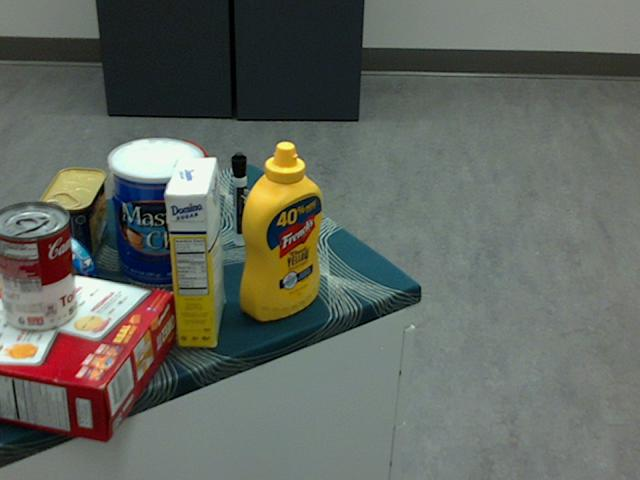cracker_box: (0, 260, 175, 442)
large_marker: (231, 152, 248, 245)
master_chef_can: (106, 137, 204, 288)
mug: (122, 140, 212, 221)
mustard_bottle: (239, 140, 323, 320)
potted_meat_can: (39, 166, 107, 270)
sugar_box: (163, 155, 225, 347)
tomato_soup_can: (0, 201, 76, 332)
tuna_fish_can: (12, 232, 97, 316)
